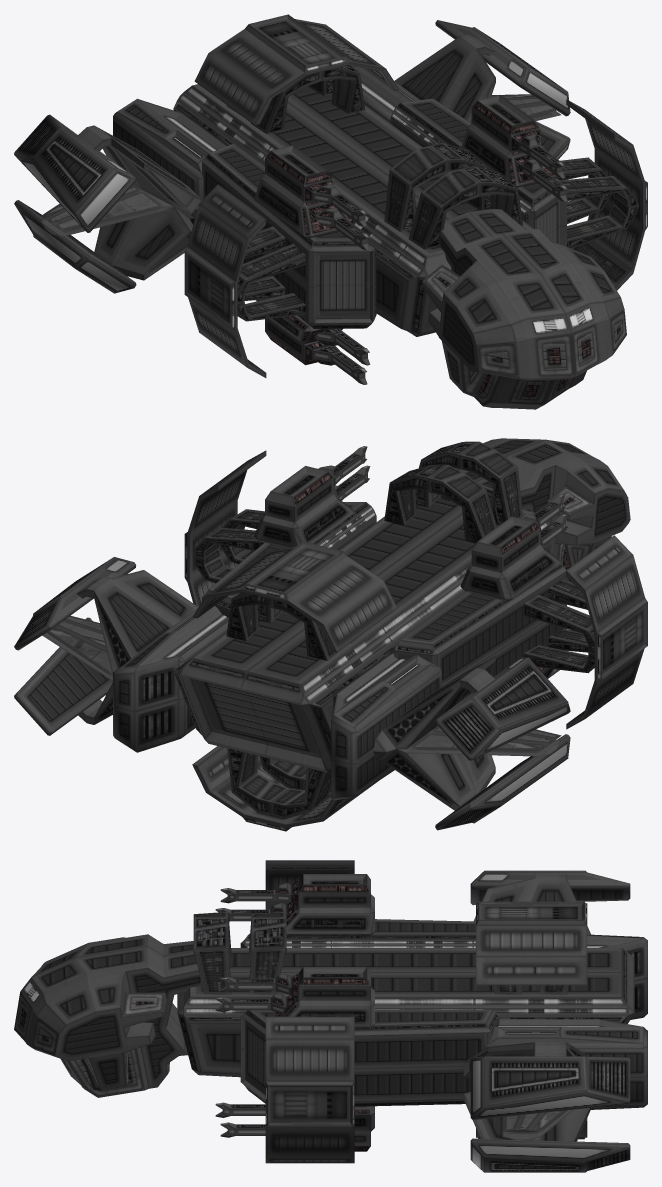
The model's file is omegaisTioFrigateB.FBX.
3 views of the same model, one above another, from view 1: azimuth 30°, elevation 25°; view 2: azimuth 150°, elevation 25°; view 3: azimuth 270°, elevation 25° (orthographic). The views are drawn at different scales.
Parts seen in each view (by area): view 1: FrigateB; view 2: FrigateB; view 3: FrigateB.
Boxes of the visible parts, x1,y1,x2,y2 form: FrigateB: (14, 14, 647, 409); FrigateB: (14, 438, 647, 831); FrigateB: (14, 860, 647, 1172).
Bounding box in the file's own units: 673 × 794 × 304.
